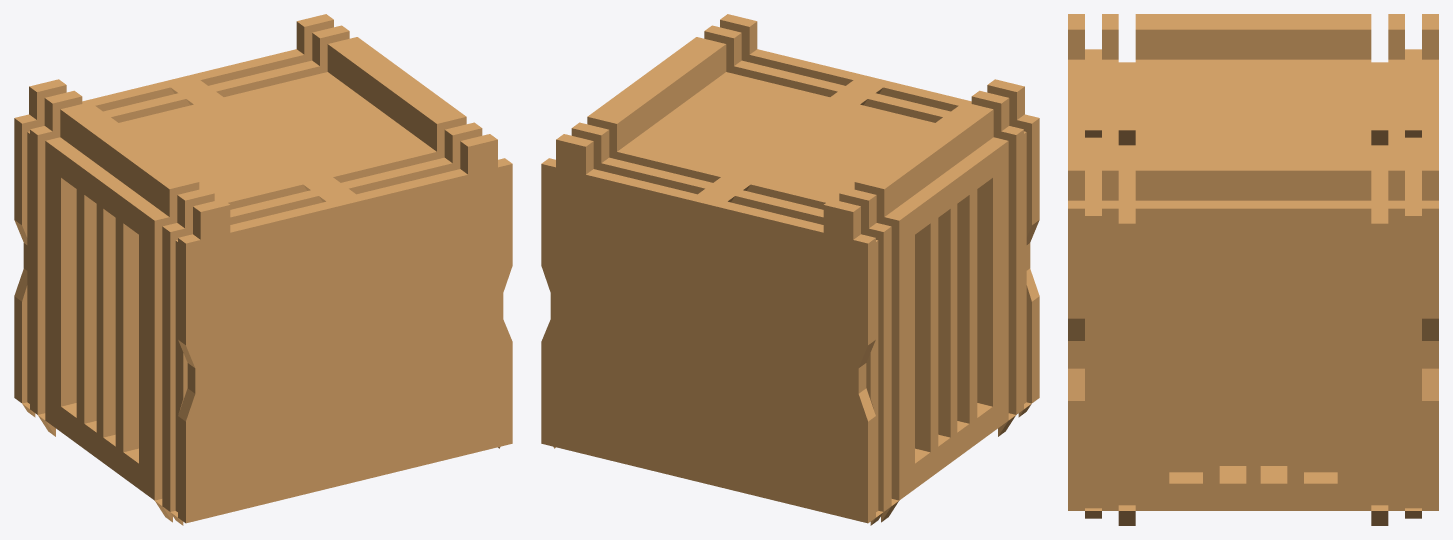
3 views of the same model, side by side, from view 1: azimuth 30°, elevation 25°; view 2: azimuth 150°, elevation 25°; view 3: azimuth 270°, elevation 25° (orthographic). The views are drawn at different scales.
Parts seen in each view (by area): view 1: Floor Block 1; view 2: Floor Block 1; view 3: Floor Block 1.
Part boxes in pixels (<box>): Floor Block 1: <box>14,14,512,525</box>; Floor Block 1: <box>541,14,1039,525</box>; Floor Block 1: <box>1068,14,1438,525</box>.
Bounding box in the file's own units: 2.2 × 2.1 × 2.
